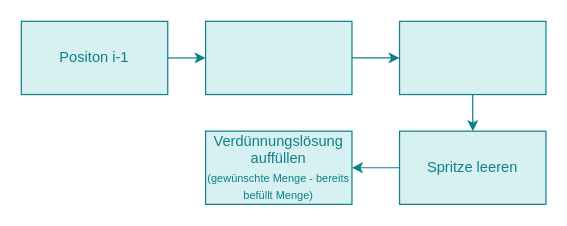
This 567x226 diagram has some shape labels left out. Here are the shapes that lost their labels. From the top down, the centre of each, then its label:
At point 278,57: "Stammlösung ziehen (gewünschte Menge/Faktor der Verdünnung in ml)".
At point 472,57: "Position i".
